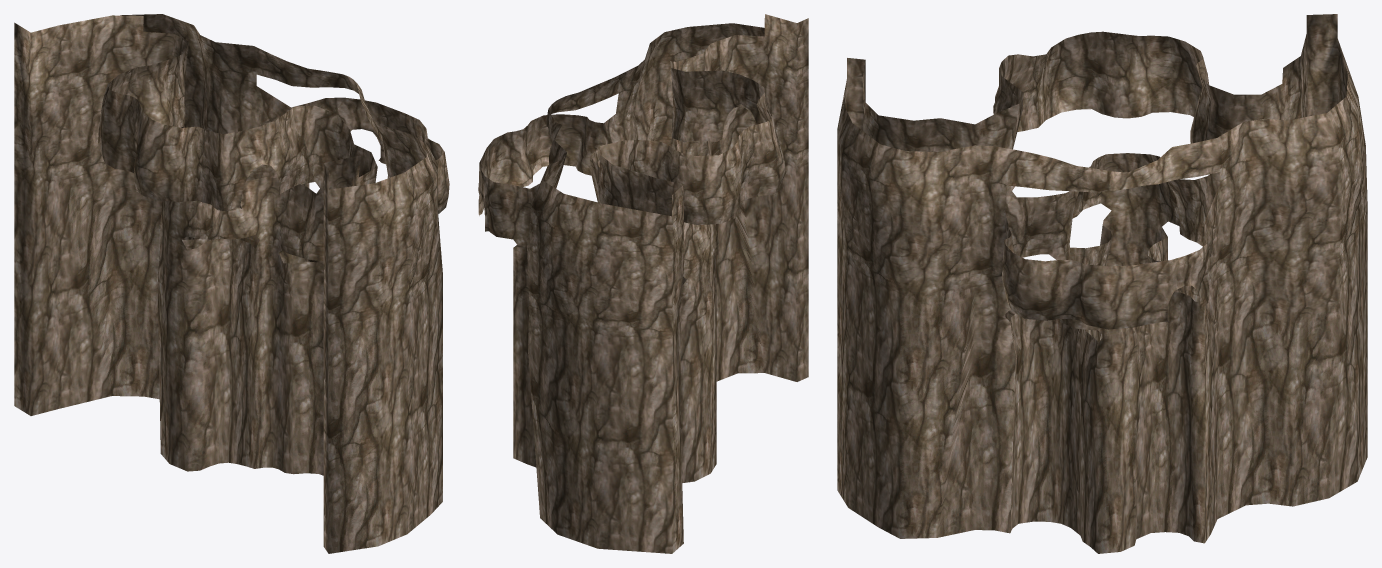
File: OVERHILL_A_01_OBJECT227.fbx
The picture shows the model from 3 angles, left to right: view 1: azimuth 30°, elevation 25°; view 2: azimuth 150°, elevation 25°; view 3: azimuth 270°, elevation 25°; orthographic projection. The views are drawn at different scales.
Visible parts, largest first — view 1: OVERHILL_A_01_OBJECT227; view 2: OVERHILL_A_01_OBJECT227; view 3: OVERHILL_A_01_OBJECT227.
Boxes of the visible parts, <box> form: OVERHILL_A_01_OBJECT227: <box>14,14,449,553</box>; OVERHILL_A_01_OBJECT227: <box>478,14,808,553</box>; OVERHILL_A_01_OBJECT227: <box>837,14,1367,553</box>.
Size of the model in its own units: 250553 by 304574 by 358268.
1 material, 1 textured.
